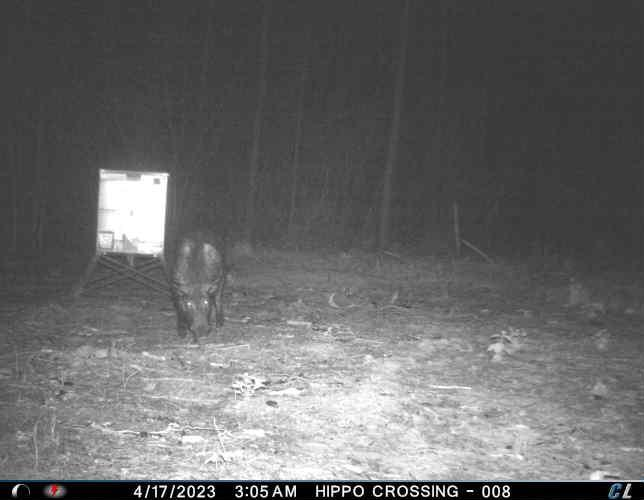Hog: (167, 221, 231, 344)
